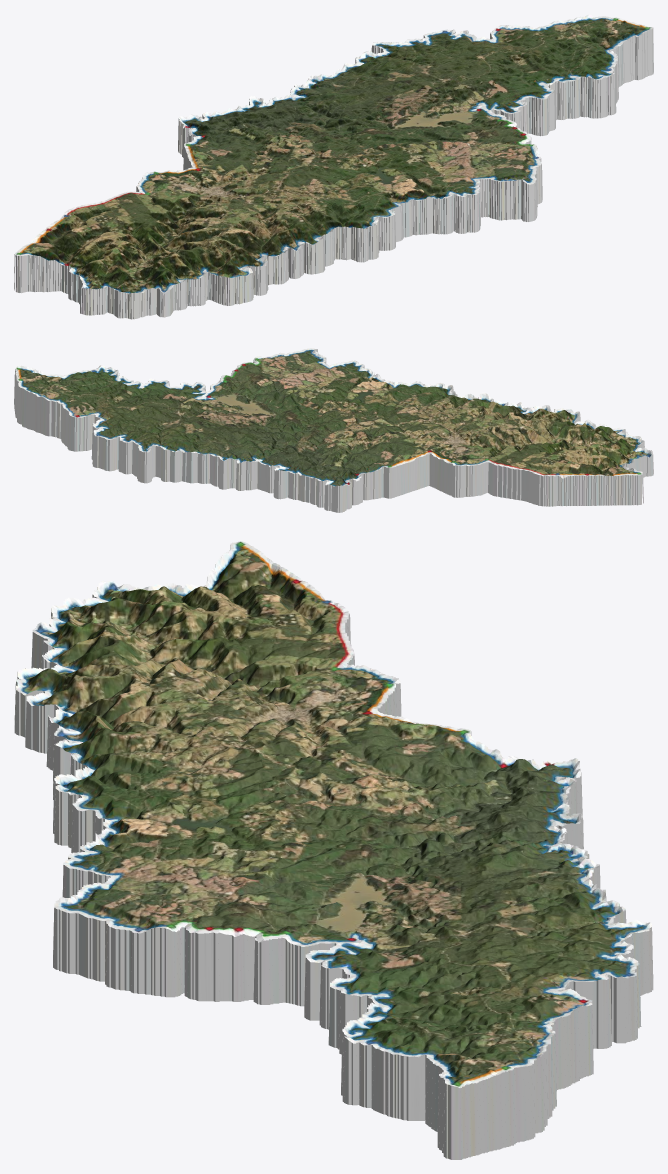
3 renders of one model, top to bottom at view 1: azimuth 30°, elevation 25°; view 2: azimuth 150°, elevation 25°; view 3: azimuth 270°, elevation 25°, orthographic. The views are drawn at different scales.
Bounding box in the file's own units: 1 × 0.0637 × 0.4826.
1 material, 1 textured.
